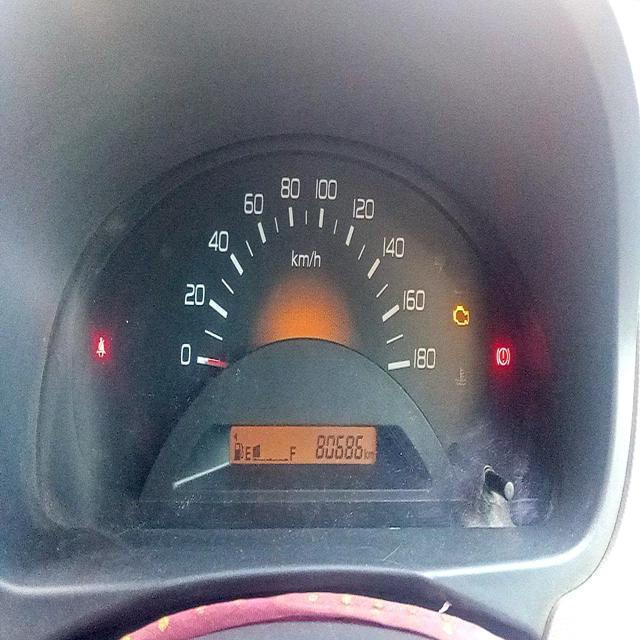odometer: (314, 432, 364, 464)
